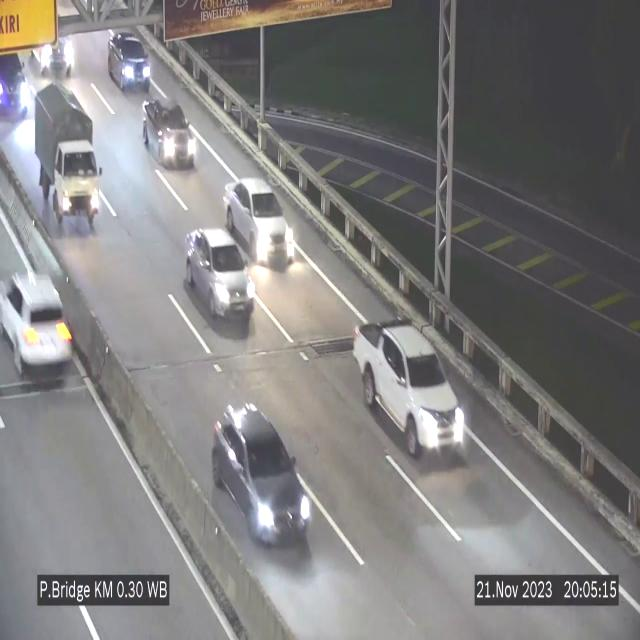Car: (354, 322, 470, 456), (212, 404, 312, 548), (0, 240, 77, 389), (185, 229, 254, 325), (224, 177, 291, 263), (141, 94, 195, 172), (0, 32, 38, 130), (108, 29, 152, 92), (30, 26, 78, 74)
Truck: (32, 79, 104, 225)
